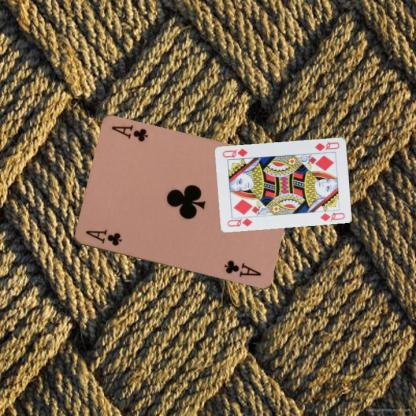Ac: (83, 227, 123, 247)
Qd: (225, 213, 255, 228), (312, 139, 341, 152)
